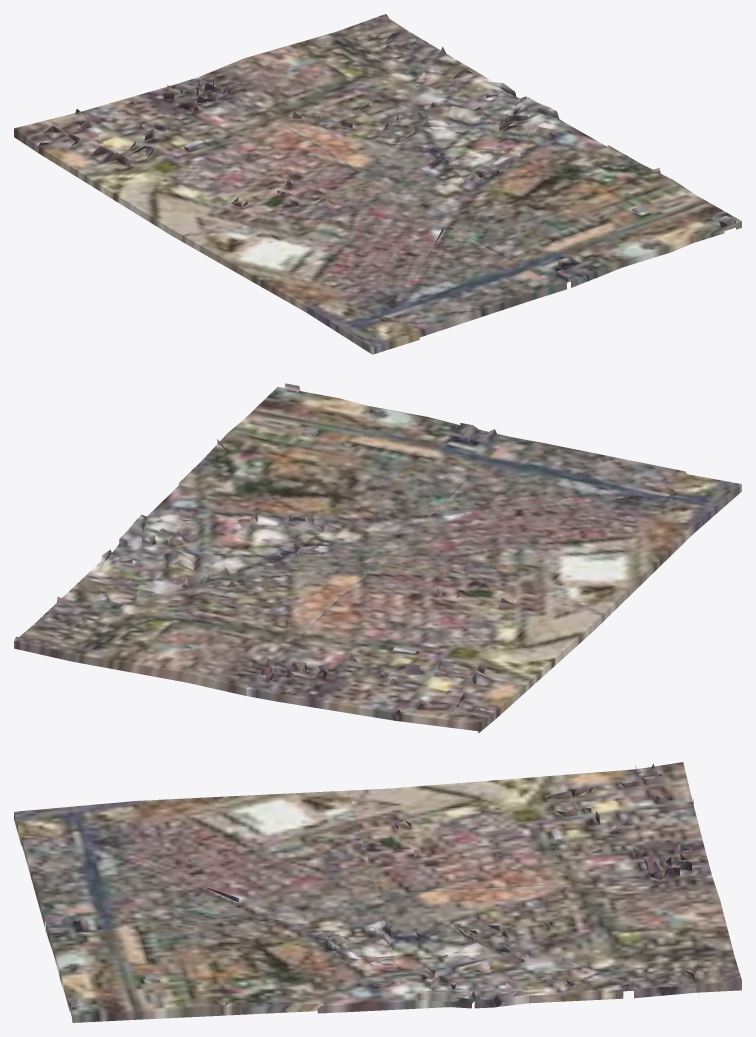
3 renders of one model, top to bottom at view 1: azimuth 30°, elevation 25°; view 2: azimuth 150°, elevation 25°; view 3: azimuth 270°, elevation 25°, orthographic. The views are drawn at different scales.
Parts seen in each view (by area): view 1: Mesh_0; view 2: Mesh_0; view 3: Mesh_0.
Boxes of the visible parts, x1,y1,x2,y2 form: Mesh_0: (14, 14, 741, 354); Mesh_0: (14, 383, 741, 733); Mesh_0: (14, 762, 741, 1022).
Bounding box in the file's own units: 2131 × 109 × 2638.
1 material, 1 textured.
